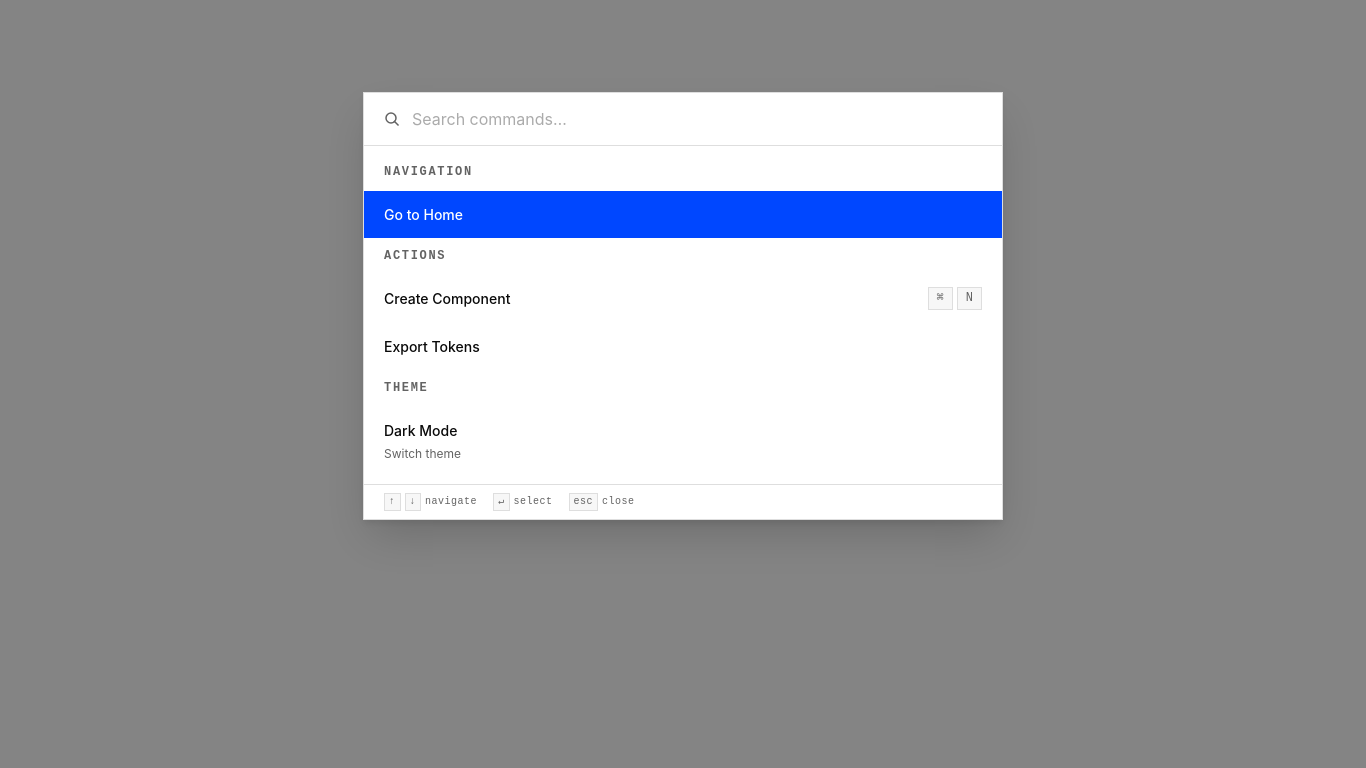
Scenario: CommandPalette › filters items by keyword
In the dropdown: coordinates (697, 119) [412,109,982,129], type "download"
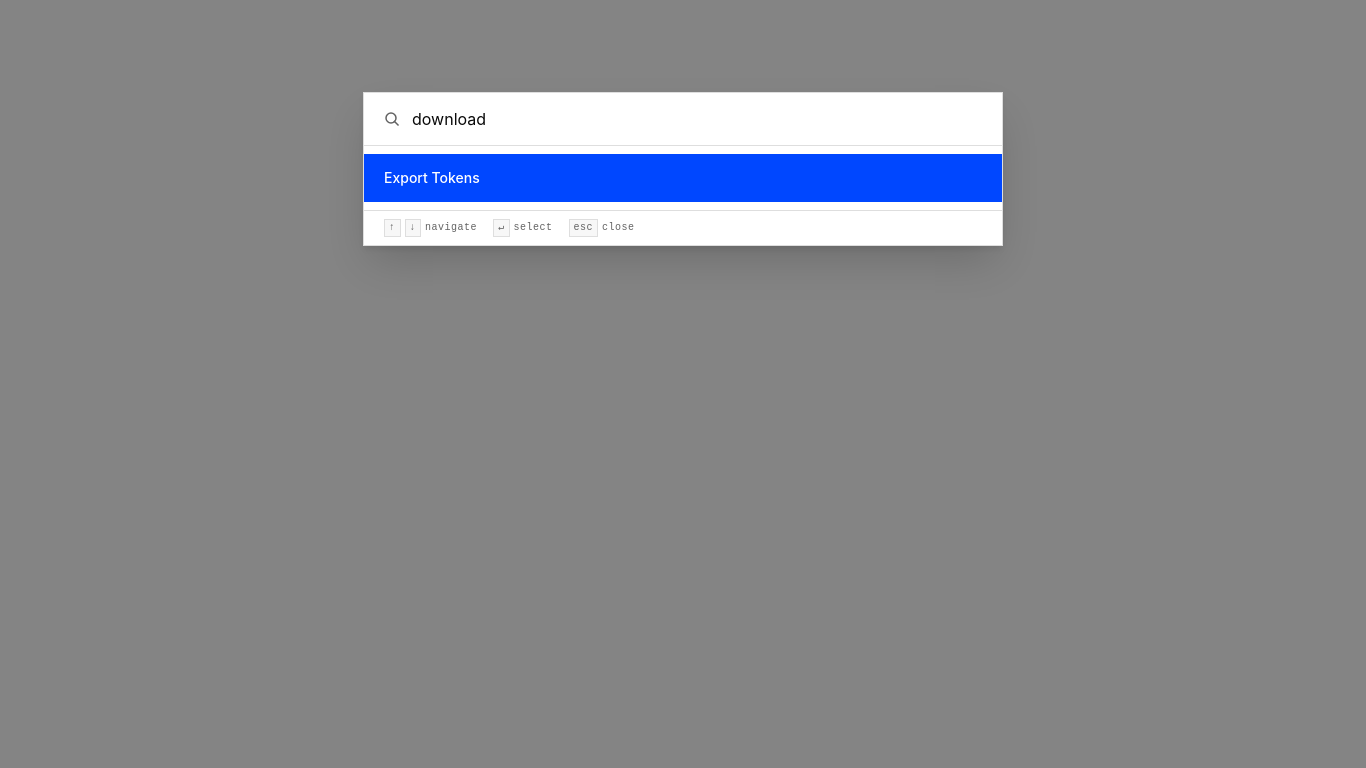
Expected: the text "Export Tokens" is shown, [384,169,480,186]
Expected: the option "Go to Home" is gone
